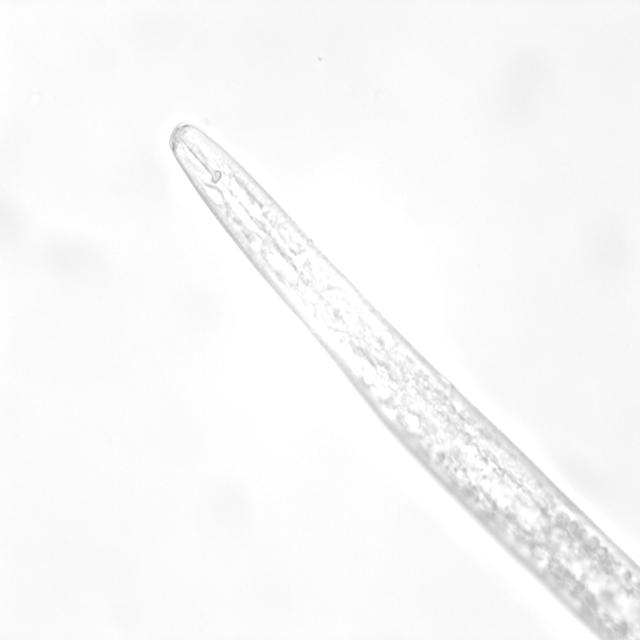Pratylenchus: (165, 98, 640, 640)
